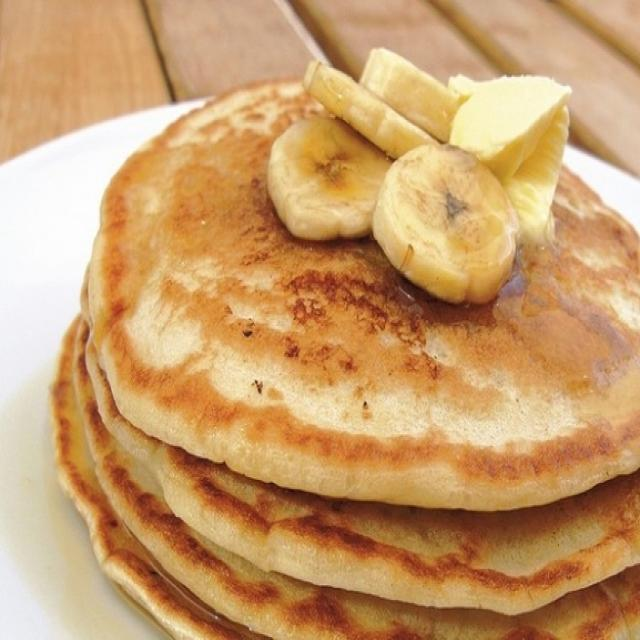蛋糕甜品: (23, 24, 636, 634)
